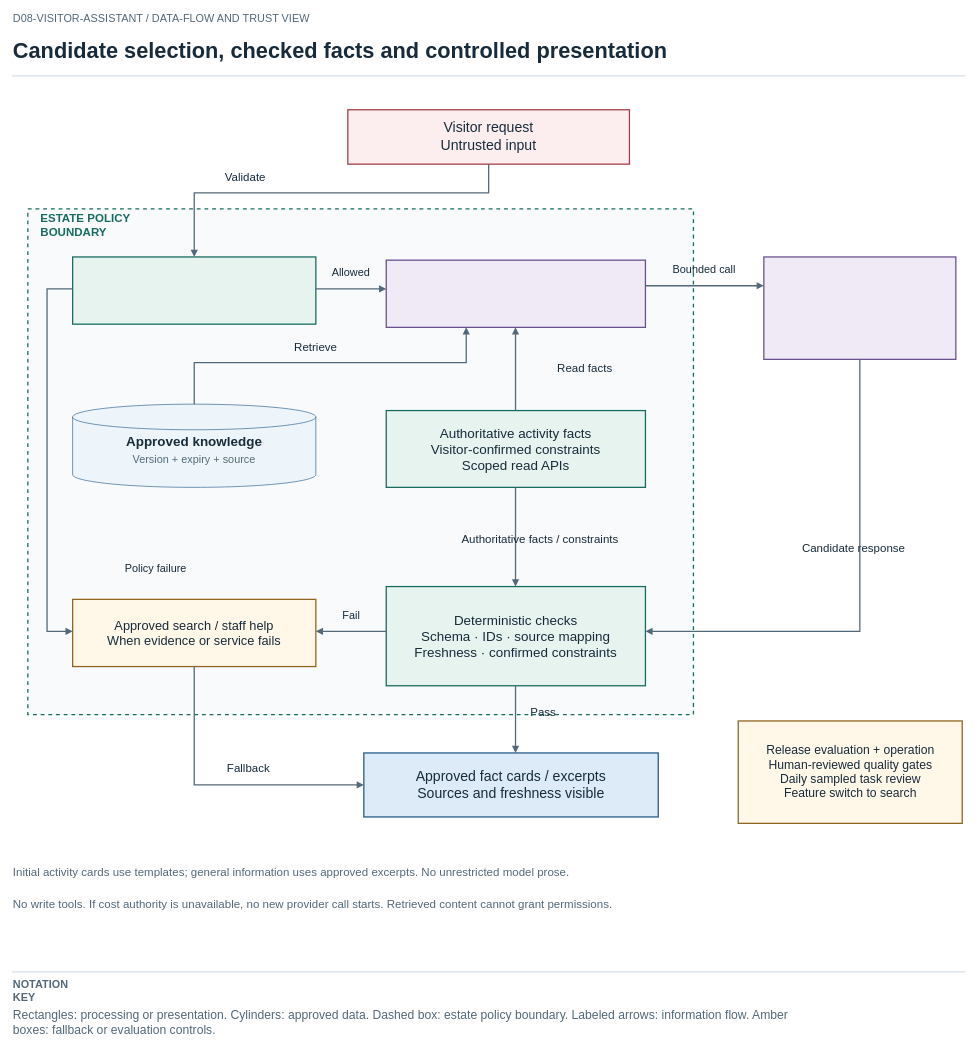
Image size: 977x1050. Some labels were removed from this diagram. Here are the shapes that lost their labels. From the top down, the centre of each, then its label:
At (x=194, y=290): "Request policy Permissions · rate · cost reserve".
At (x=515, y=293): "Versioned AI adapter Deadline and provider contract".
At (x=859, y=308): "External model Candidate IDs + sources Untrusted output".
